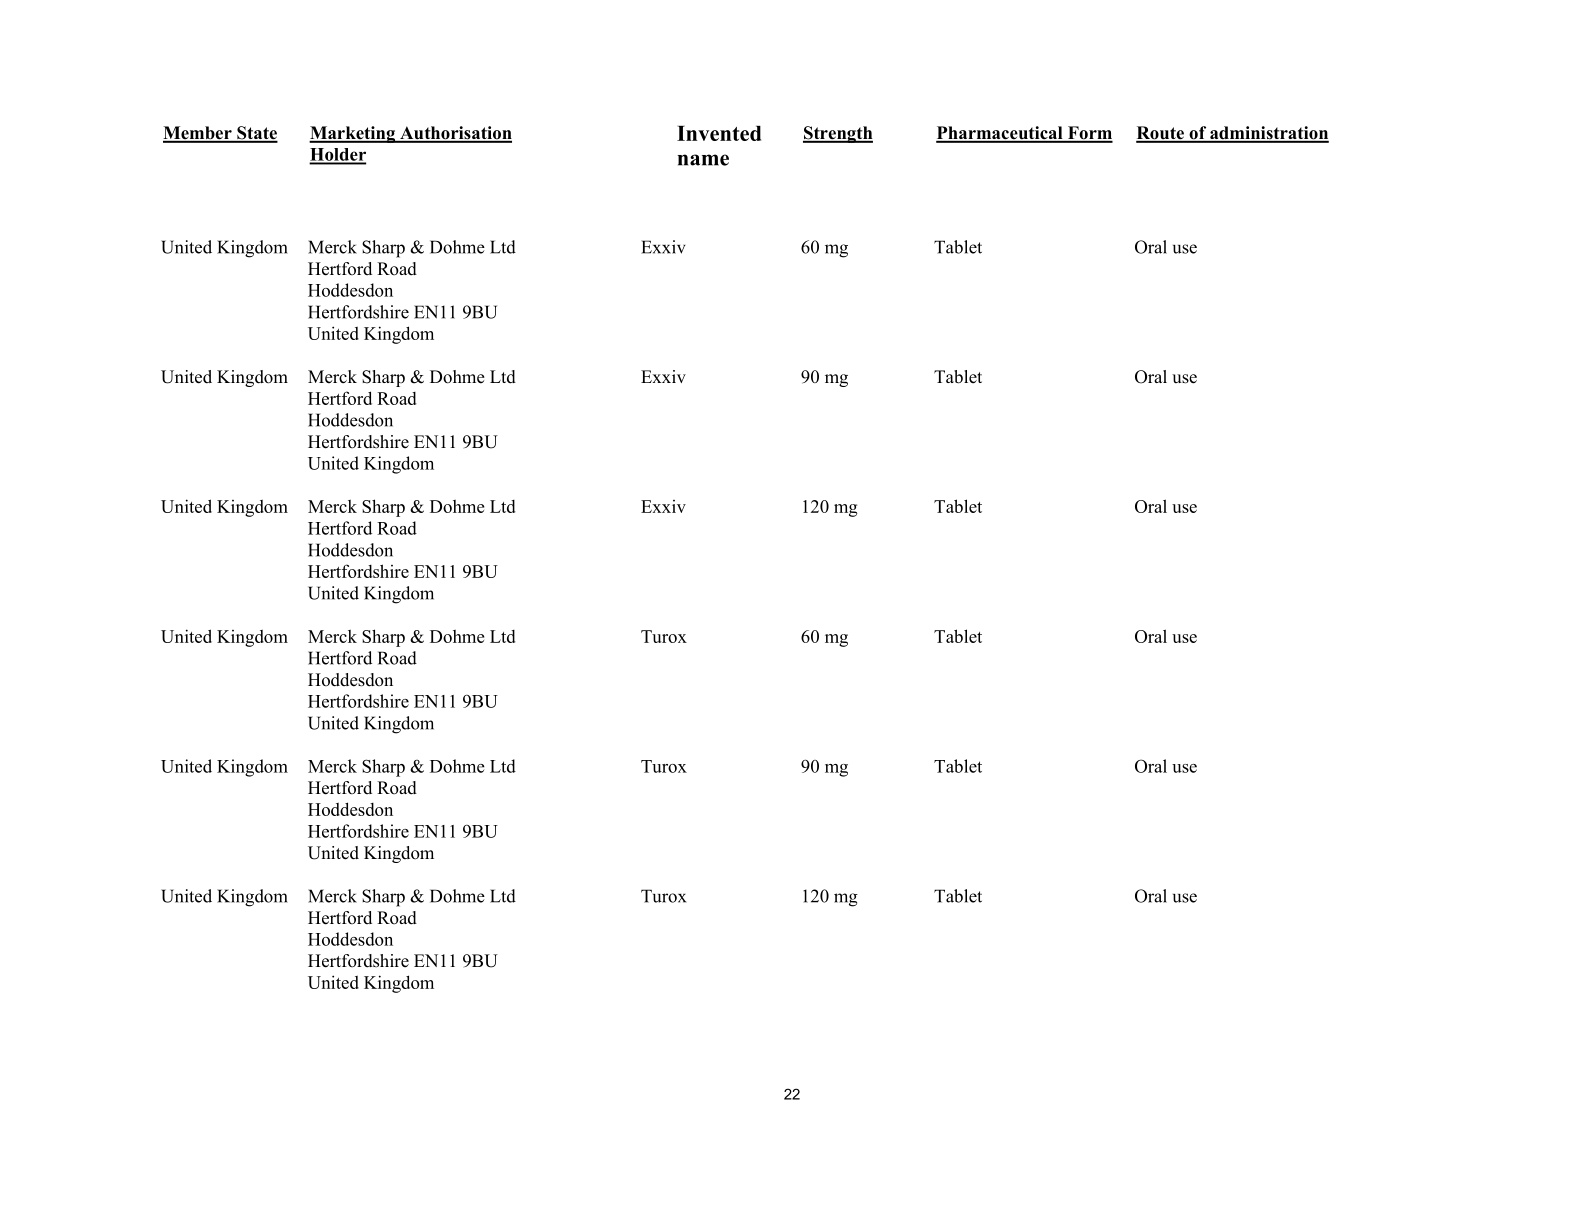nolines: (158, 123, 1335, 996)
